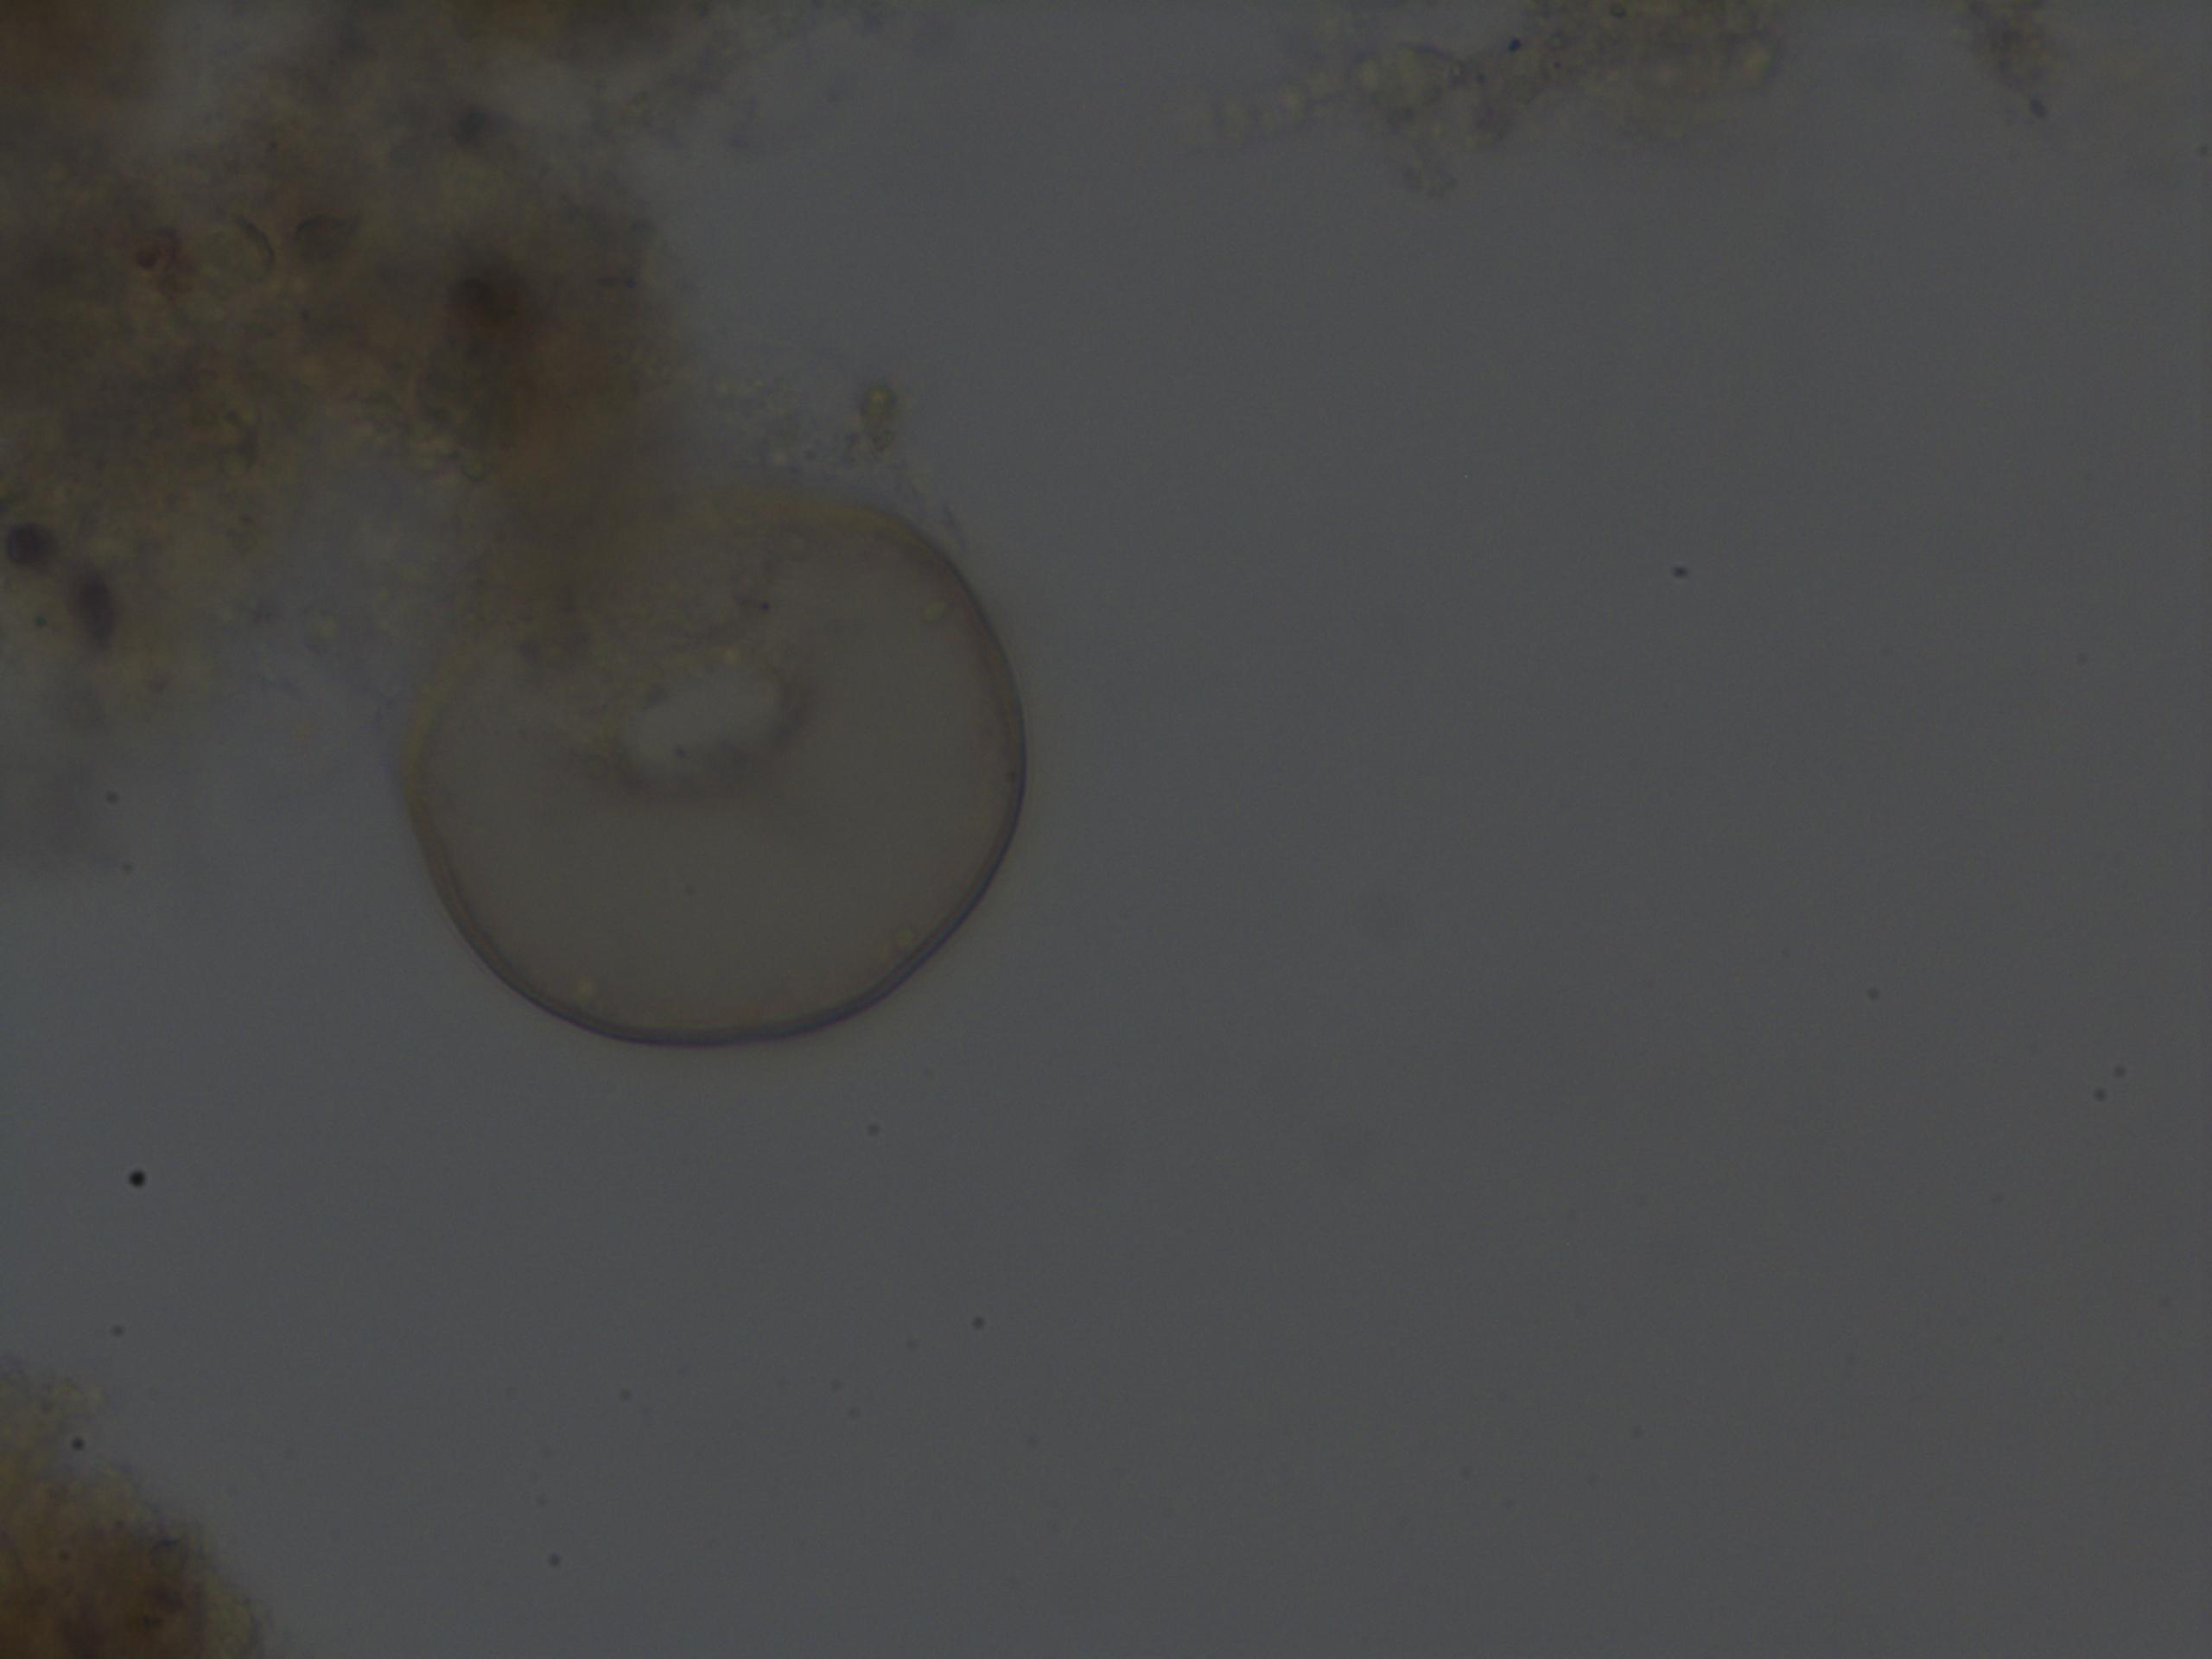protozoa: (390, 451, 1038, 1060)
